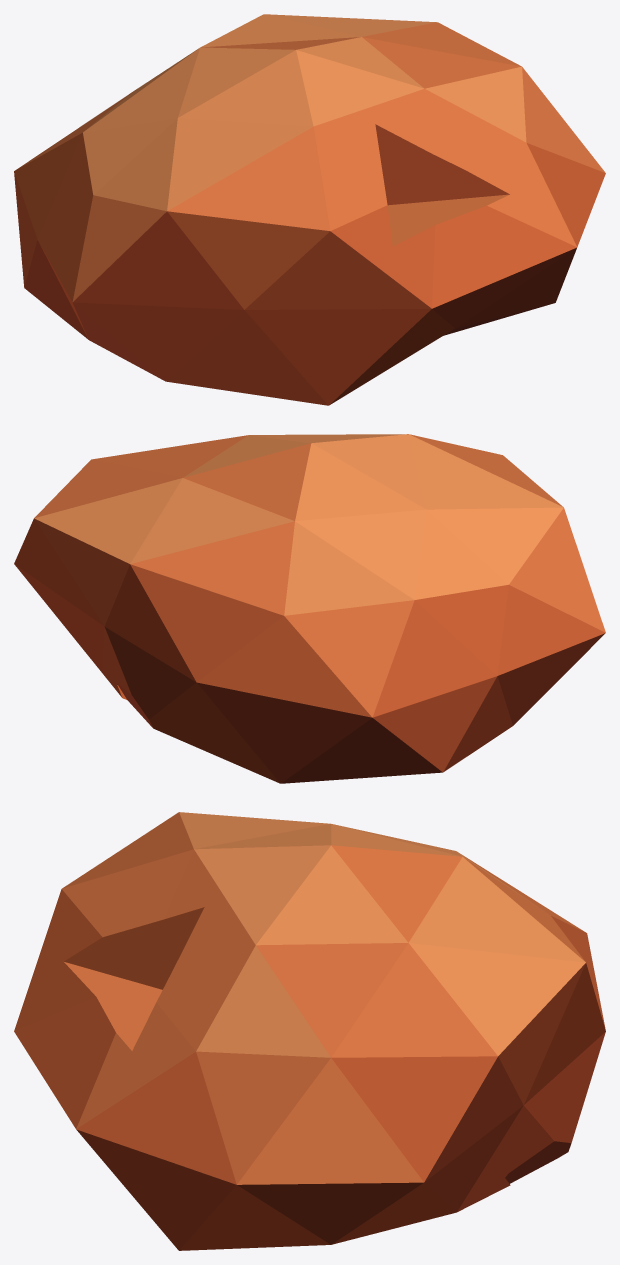
The model's file is SM_BOULDER_01.fbx.
3 views of the same model, one above another, from view 1: azimuth 30°, elevation 25°; view 2: azimuth 150°, elevation 25°; view 3: azimuth 270°, elevation 25° (orthographic). The views are drawn at different scales.
Parts seen in each view (by area): view 1: BOULDER_01; view 2: BOULDER_01; view 3: BOULDER_01.
Boxes of the visible parts, x1,y1,x2,y2 form: BOULDER_01: (14,14,605,405); BOULDER_01: (14,434,605,783); BOULDER_01: (14,812,605,1250).
Size of the model in its own units: 3.09 by 2.55 by 1.44.
